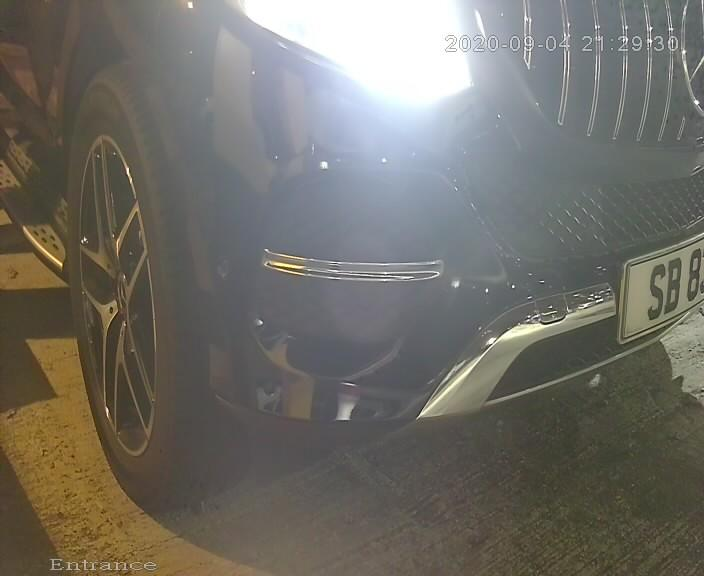License Plate: (612, 212, 704, 364)
